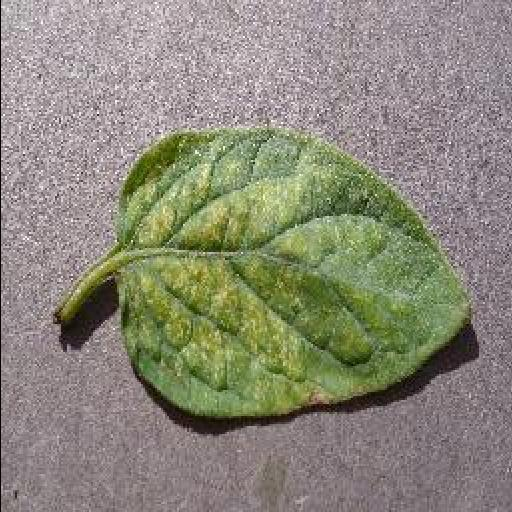disease_tomato: (116, 122, 472, 418)
